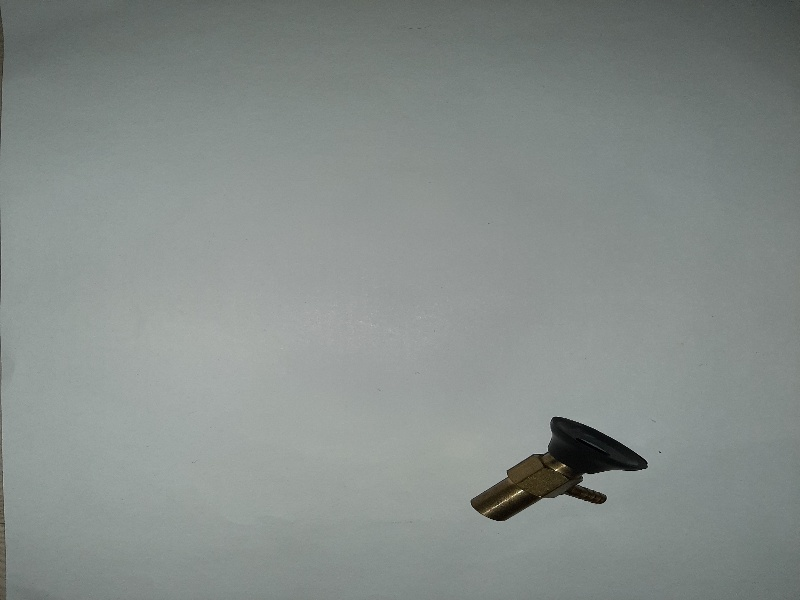Joint Hold: (461, 414, 655, 525)
